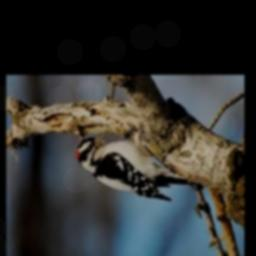Woodpecker: (76, 131, 195, 201)
